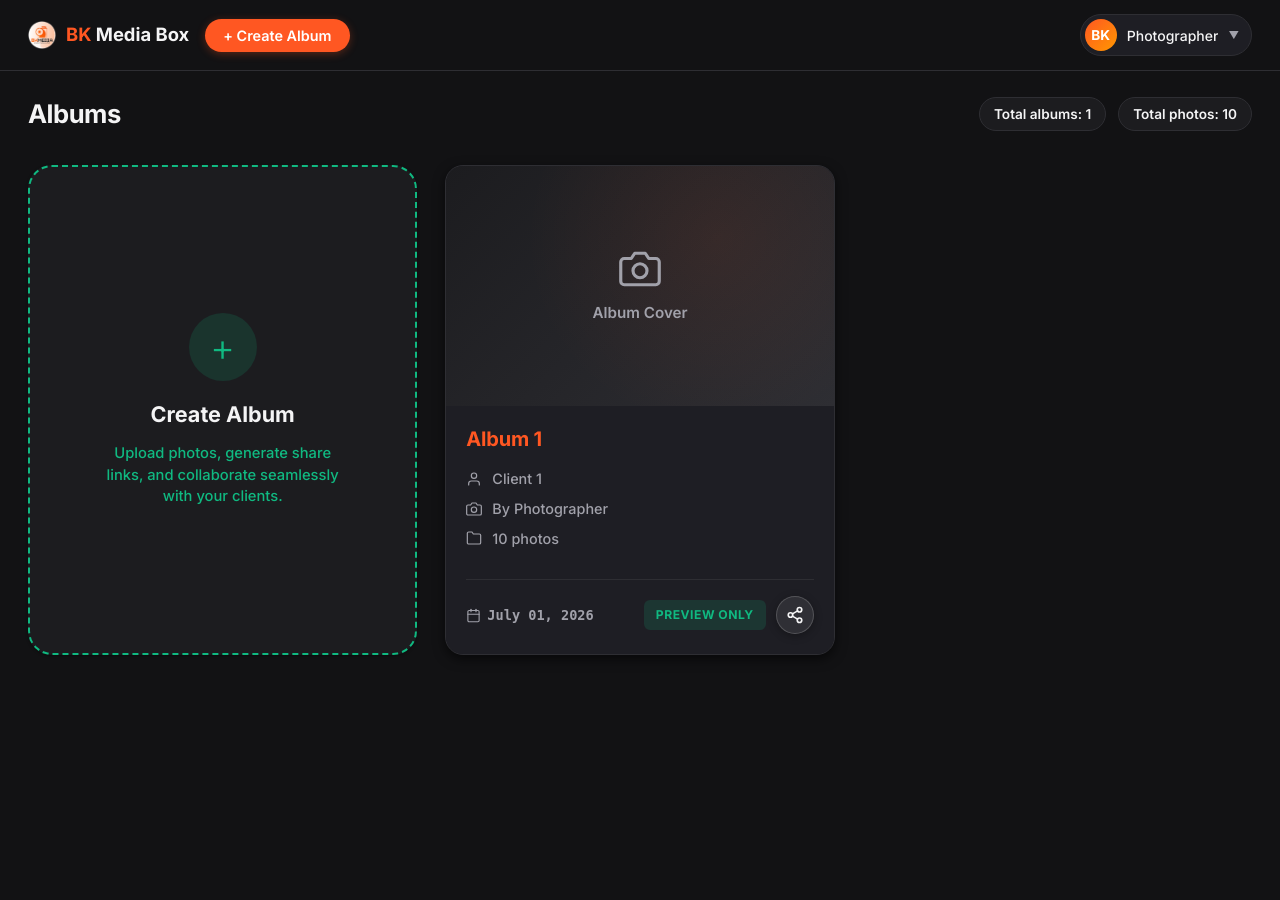
it: AlbumGrid › opens modal when inline create card or TopNav create button is clicked
Click the button with aria-label "create new album in list" at (223, 410), box [28,165,417,655]
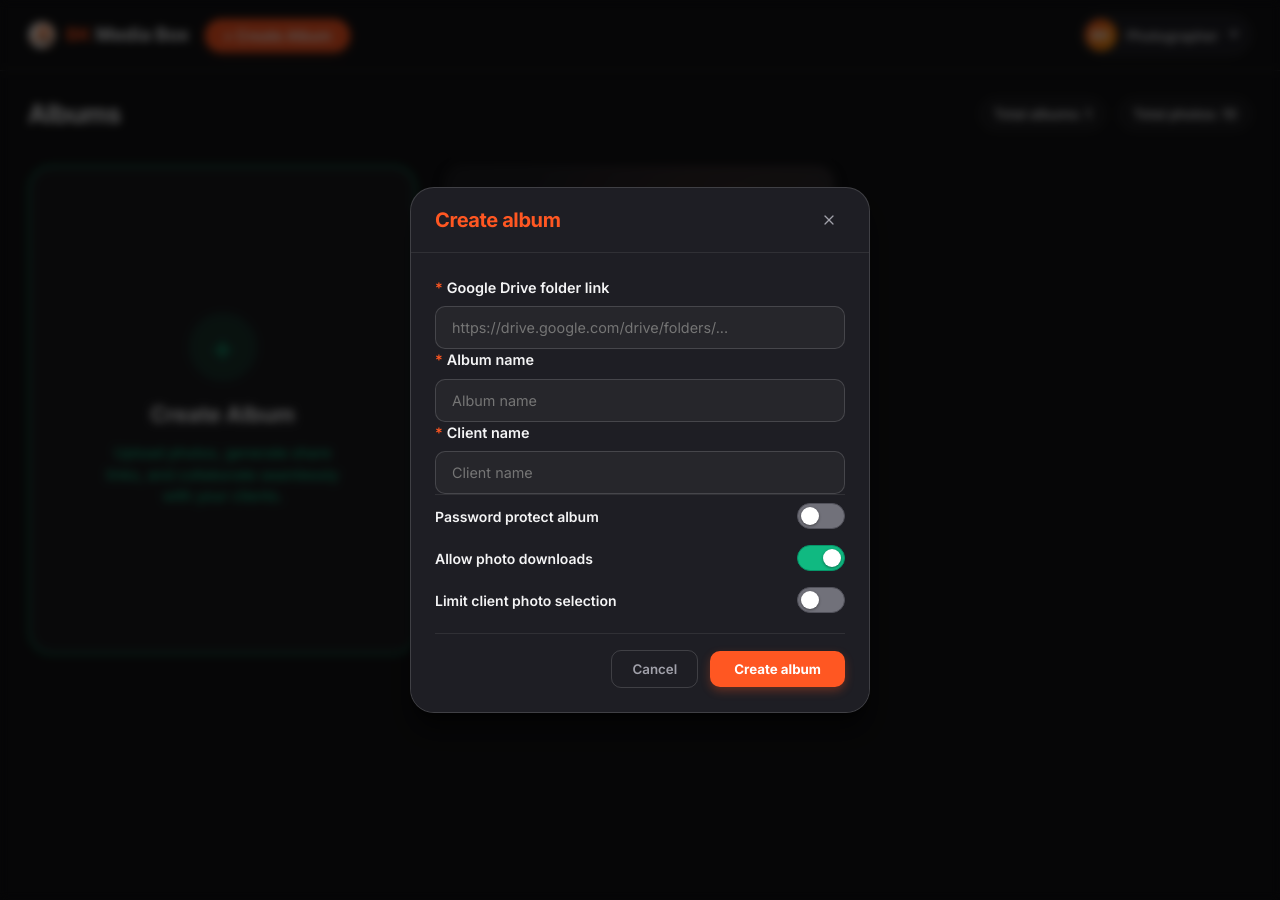
Result: the dialog is shown at [410,187,870,713]
